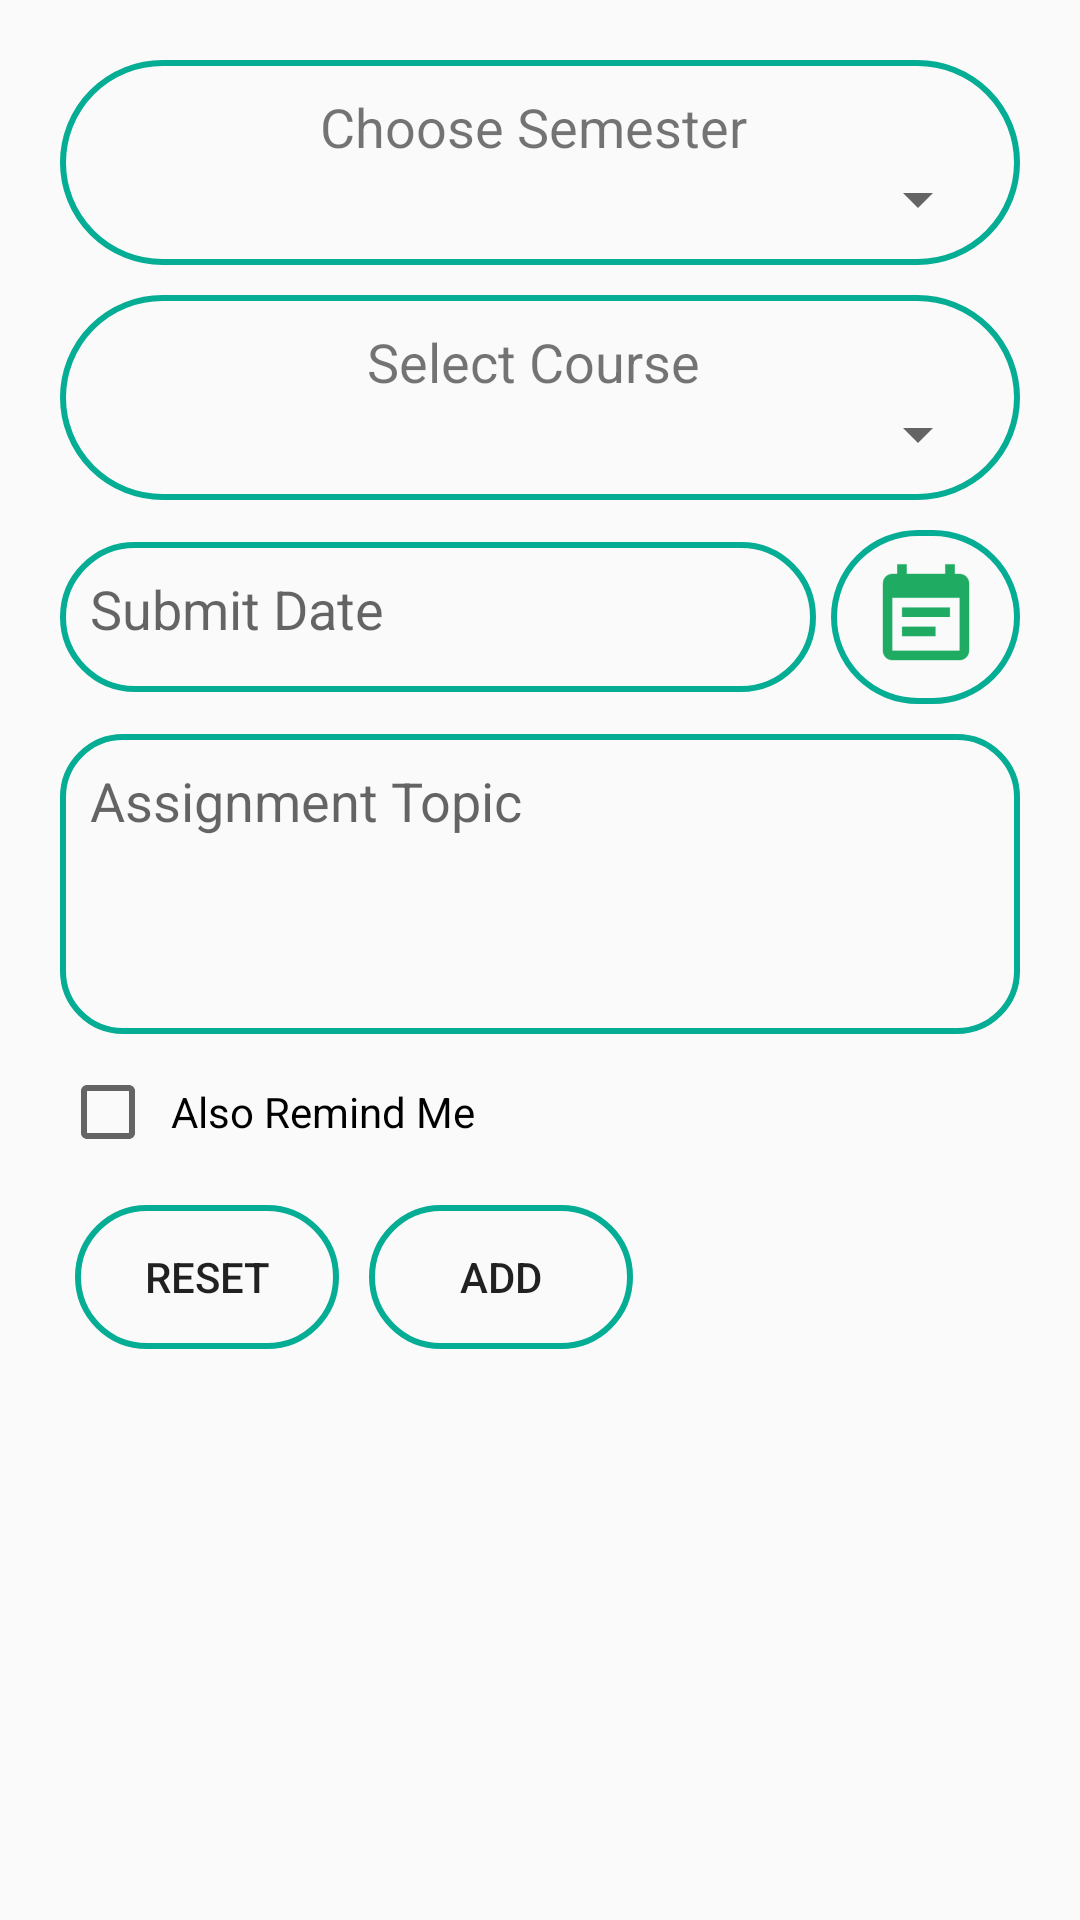

Named icons in this screenshot (1080 x 1920) and their bounding boxes, (x1, y1, x2, y2):
datepicker: (831, 530, 1020, 704)
